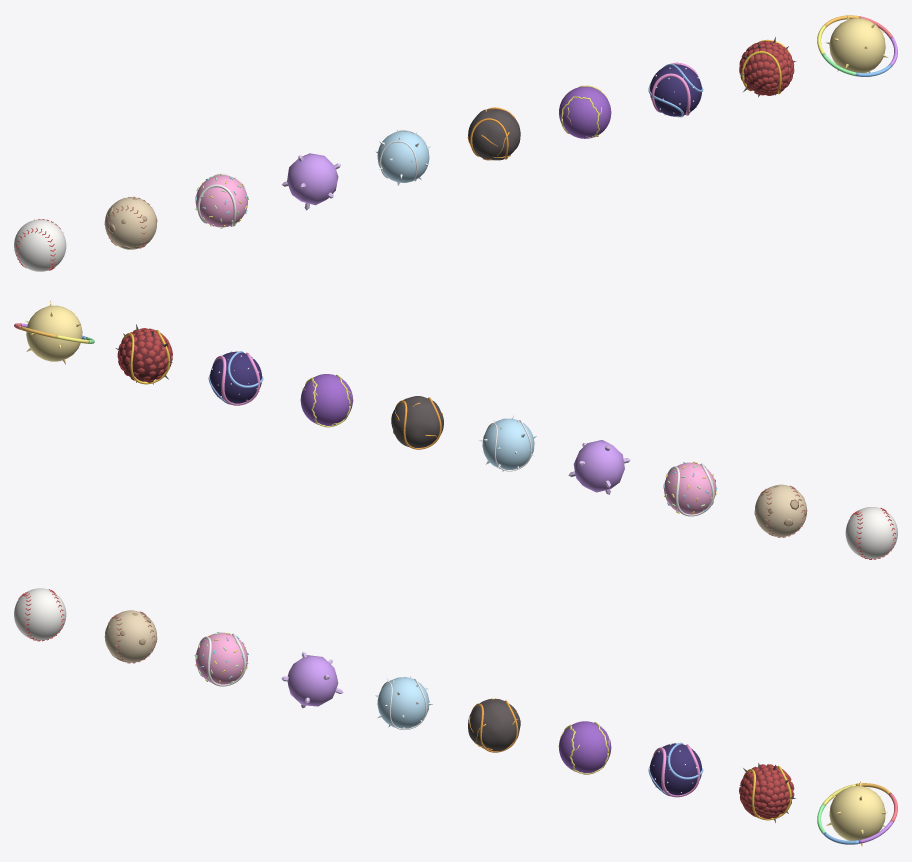
The model's file is Balls.fbx.
The picture shows the model from 3 angles, top to bottom: view 1: azimuth 30°, elevation 25°; view 2: azimuth 150°, elevation 25°; view 3: azimuth 330°, elevation 25°; orthographic projection.
Visible parts, largest first — view 1: supernova_ball__Halo, baseball__Shell, thunder_ball__Shell, frost_comet__Shell, practice_ball__Shell, dragonfire_ball__Scales, inferno_ball__Shell, crystal_ball__Shell, bubblegum_ball__Shell, galaxy_ball__Shell, dragonfire_ball__Shell; view 2: supernova_ball__Halo, baseball__Shell, thunder_ball__Shell, inferno_ball__Shell, frost_comet__Shell, practice_ball__Shell, crystal_ball__Shell, bubblegum_ball__Shell, galaxy_ball__Shell, dragonfire_ball__Scales, dragonfire_ball__Shell; view 3: supernova_ball__Halo, baseball__Shell, dragonfire_ball__Scales, thunder_ball__Shell, practice_ball__Shell, frost_comet__Shell, inferno_ball__Shell, crystal_ball__Shell, bubblegum_ball__Shell, galaxy_ball__Shell, dragonfire_ball__Shell.
Boxes of the visible parts, <box> form: supernova_ball__Halo: <box>829,18,885,72</box>; baseball__Shell: <box>14,219,66,271</box>; thunder_ball__Shell: <box>559,86,611,138</box>; frost_comet__Shell: <box>377,131,429,182</box>; practice_ball__Shell: <box>105,197,156,249</box>; dragonfire_ball__Scales: <box>739,40,794,95</box>; inferno_ball__Shell: <box>468,109,520,160</box>; crystal_ball__Shell: <box>287,153,338,205</box>; bubblegum_ball__Shell: <box>195,175,247,227</box>; galaxy_ball__Shell: <box>650,64,701,116</box>; dragonfire_ball__Shell: <box>740,42,792,93</box>; supernova_ball__Halo: <box>26,305,82,361</box>; baseball__Shell: <box>845,507,897,559</box>; thunder_ball__Shell: <box>300,374,352,425</box>; inferno_ball__Shell: <box>391,396,443,447</box>; frost_comet__Shell: <box>482,418,534,469</box>; practice_ball__Shell: <box>755,484,807,537</box>; crystal_ball__Shell: <box>573,440,624,492</box>; bubblegum_ball__Shell: <box>664,462,716,514</box>; galaxy_ball__Shell: <box>210,351,261,403</box>; dragonfire_ball__Scales: <box>117,328,172,382</box>; dragonfire_ball__Shell: <box>119,330,170,381</box>; supernova_ball__Halo: <box>829,786,885,840</box>; baseball__Shell: <box>14,588,66,640</box>; dragonfire_ball__Scales: <box>739,764,794,818</box>; thunder_ball__Shell: <box>559,721,611,773</box>; practice_ball__Shell: <box>104,610,156,662</box>; frost_comet__Shell: <box>377,677,429,728</box>; inferno_ball__Shell: <box>468,698,520,751</box>; crystal_ball__Shell: <box>287,655,338,706</box>; bubblegum_ball__Shell: <box>195,632,247,684</box>; galaxy_ball__Shell: <box>650,743,701,795</box>; dragonfire_ball__Shell: <box>741,765,792,817</box>.
Size of the model in its own units: 3860 by 251 by 288.
